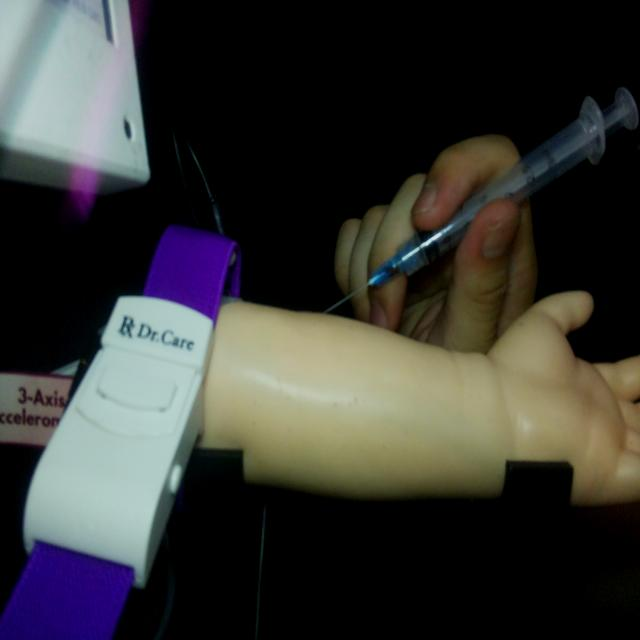23 degrees: (320, 82, 638, 317)
